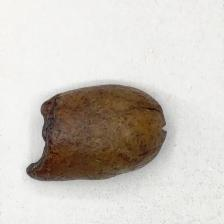NG: (23, 96, 59, 175)
